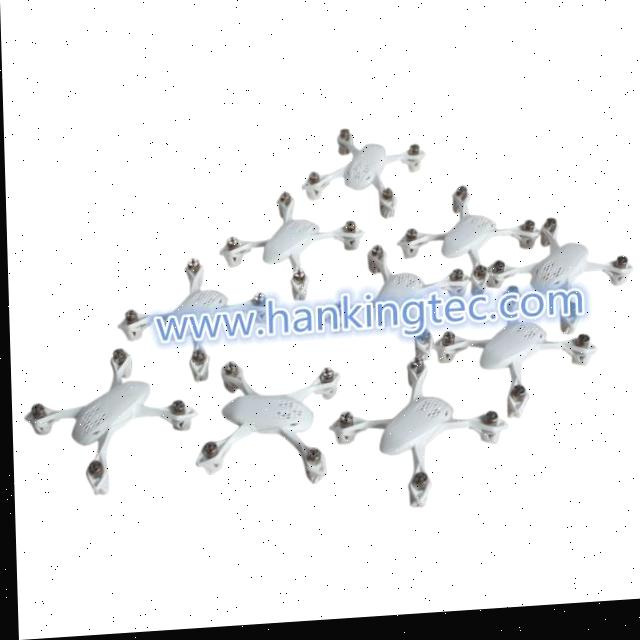drone: (322, 358, 511, 519), (25, 359, 199, 503), (105, 260, 271, 391), (435, 294, 595, 427), (395, 169, 538, 307), (211, 183, 367, 309), (199, 355, 338, 494), (484, 213, 636, 339), (332, 246, 483, 360), (293, 117, 426, 227)
